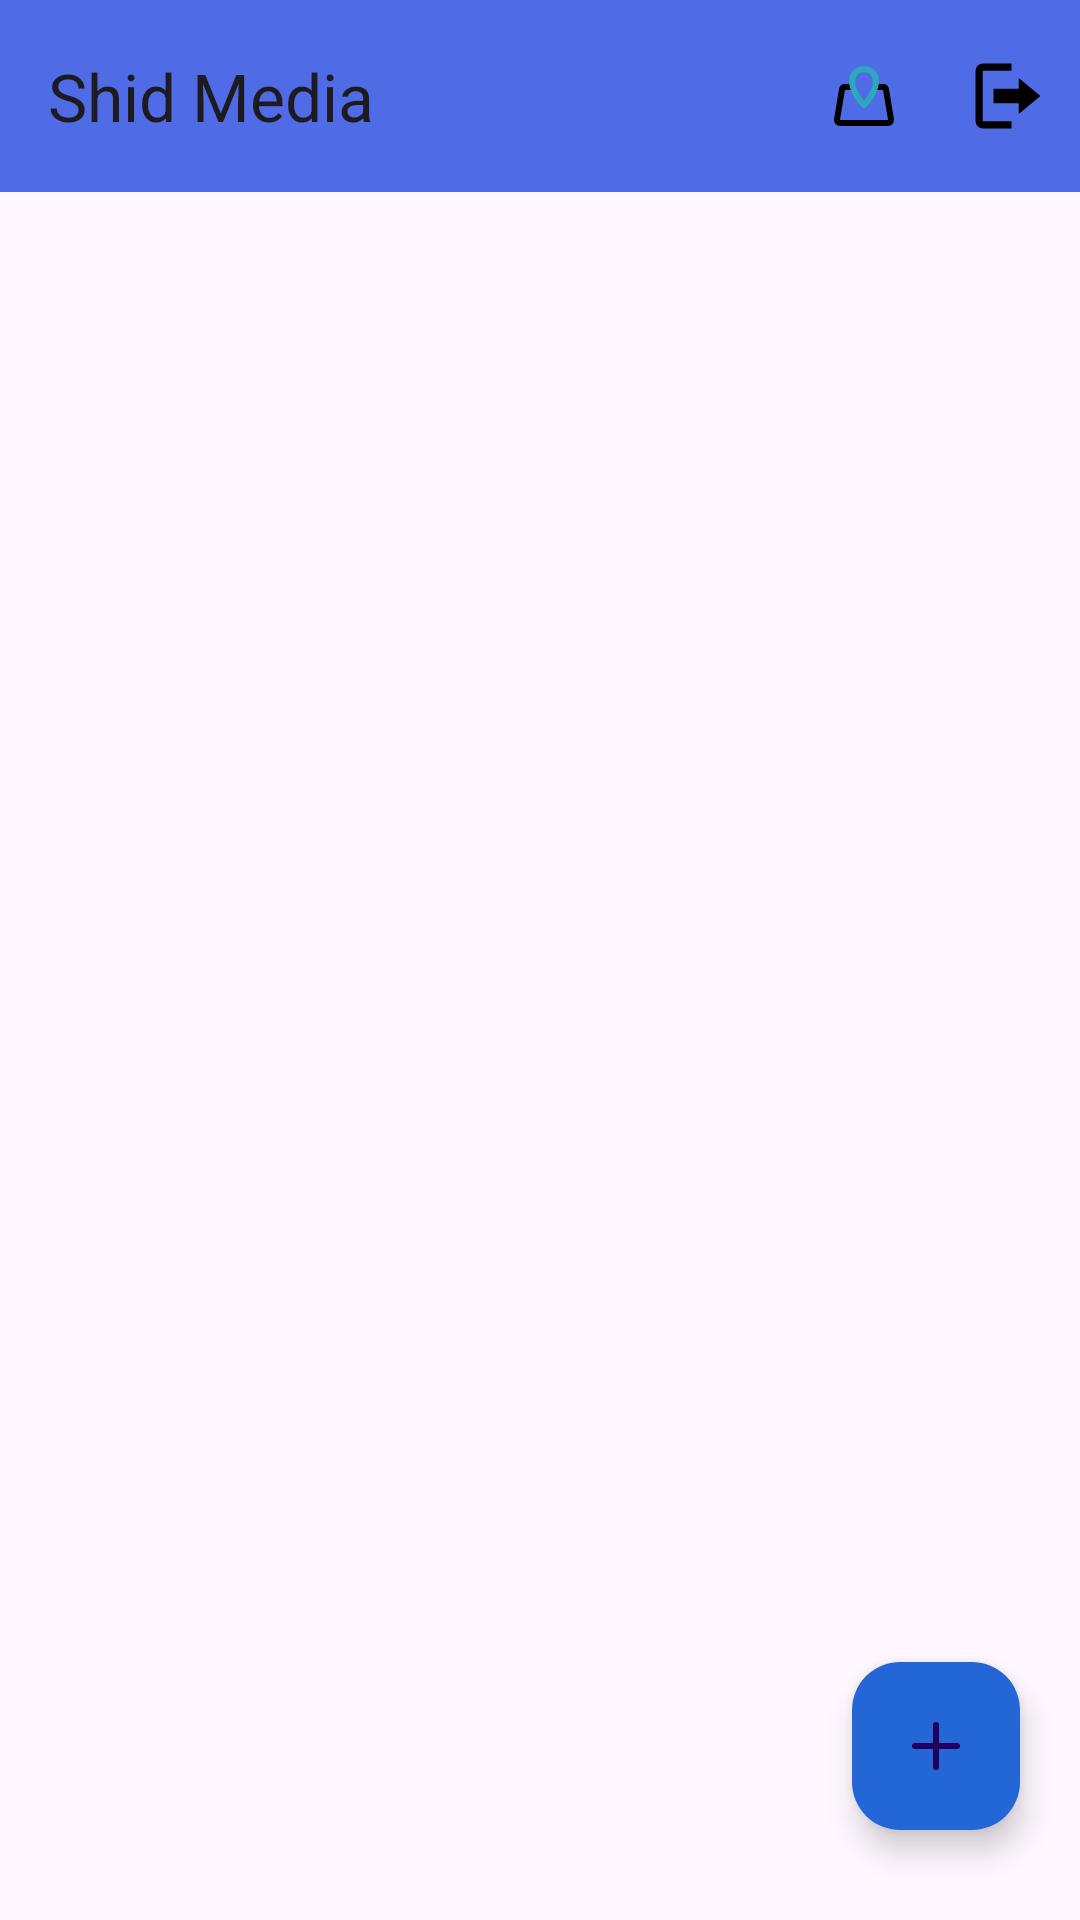

Icon bounding boxes for this 1080 x 1920 phone screenshot, format (x1, y1, x2, y2):
add: (852, 1662, 1020, 1830)
